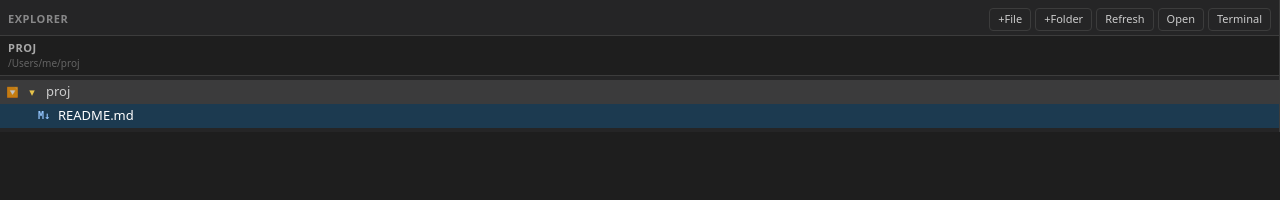
Sidebar create file / folder › Escape cancels the inline input
Click the button with test id "new-file".
click(1010, 19)  # box [989,8,1031,30]
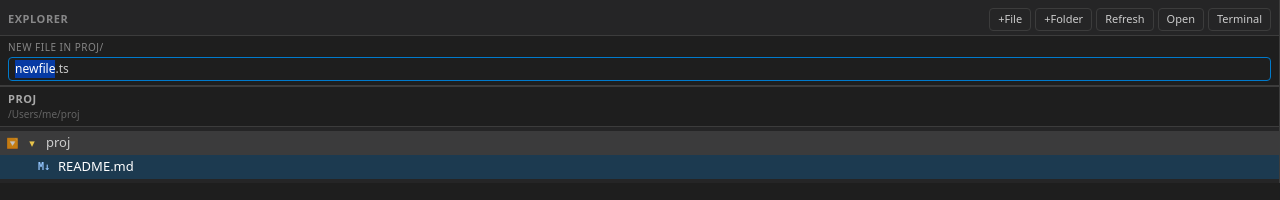
Press Escape in the field with test id "create-input", box [8,56,1271,80]
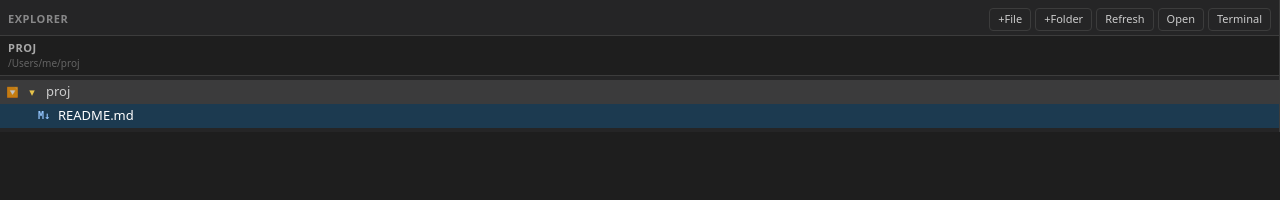
Now the field with test id "create-input" is gone
